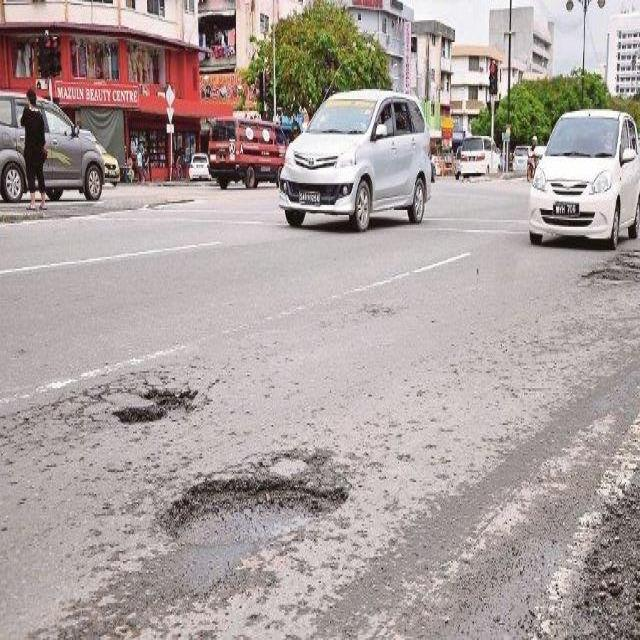jalan retak: (2, 360, 209, 456), (30, 590, 173, 640), (241, 436, 356, 485), (325, 297, 414, 326)
lubang: (161, 466, 366, 549), (575, 436, 640, 640), (115, 388, 198, 428), (576, 249, 640, 285)
